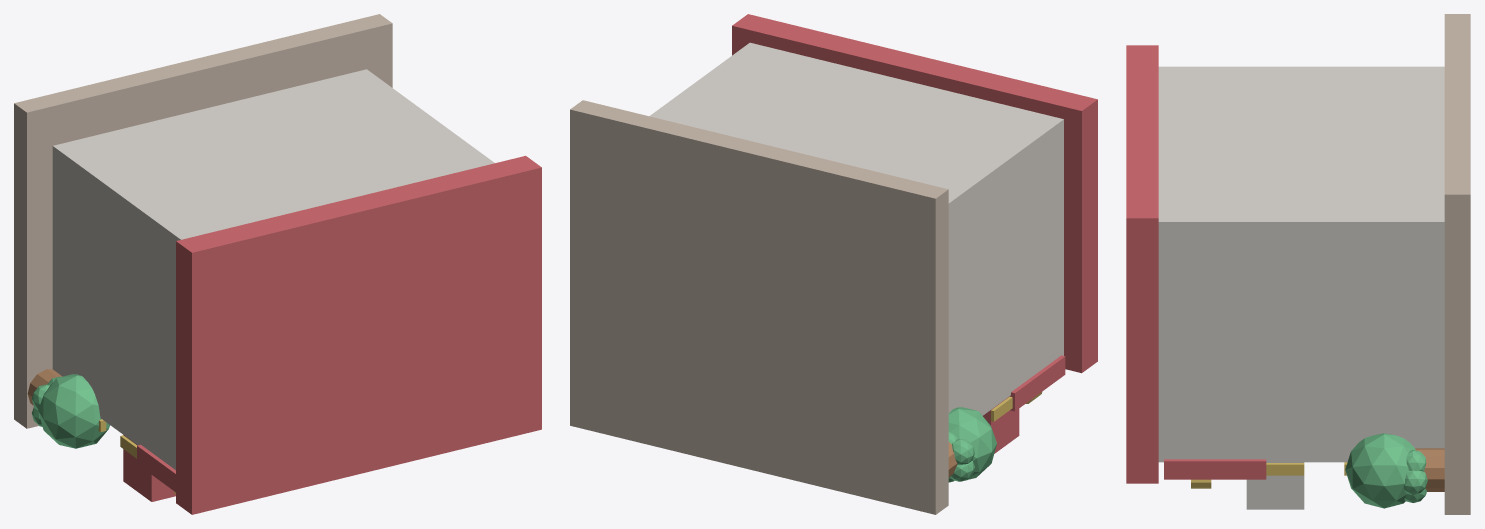
Rendered from minimart_lod1.glb.
3 renders of one model, left to right at view 1: azimuth 30°, elevation 25°; view 2: azimuth 150°, elevation 25°; view 3: azimuth 270°, elevation 25°, orthographic.
Parts seen in each view (by area): view 1: roof_2, walls_1, plinth_0, plant_20, awning_5, signboard_3; view 2: plinth_0, walls_1, roof_2, plant_20, signboard_3, awning_5; view 3: walls_1, roof_2, plinth_0, plant_22, signboard_3, awning_12, planter_21, detail_window_trim_5, detail_foliage_28.
Part boxes in pixels (x1,y1,x2,y2): roof_2: [176, 155, 541, 514]; walls_1: [52, 69, 494, 469]; plinth_0: [14, 14, 392, 428]; plant_20: [38, 374, 110, 448]; awning_5: [123, 435, 175, 501]; signboard_3: [137, 444, 175, 492]; plinth_0: [570, 100, 948, 514]; walls_1: [649, 42, 1063, 415]; roof_2: [732, 14, 1097, 373]; plant_20: [948, 407, 996, 481]; signboard_3: [1009, 355, 1065, 411]; awning_5: [983, 396, 1019, 453]; walls_1: [1158, 66, 1444, 462]; roof_2: [1126, 45, 1158, 483]; plinth_0: [1444, 14, 1470, 514]; plant_22: [1345, 433, 1415, 508]; signboard_3: [1164, 459, 1266, 479]; awning_12: [1246, 462, 1304, 509]; planter_21: [1415, 448, 1444, 491]; detail_window_trim_5: [1266, 463, 1304, 475]; detail_foliage_28: [1404, 470, 1427, 495].
Bounding box in the file's own units: 4.94 × 3.9 × 3.7.
